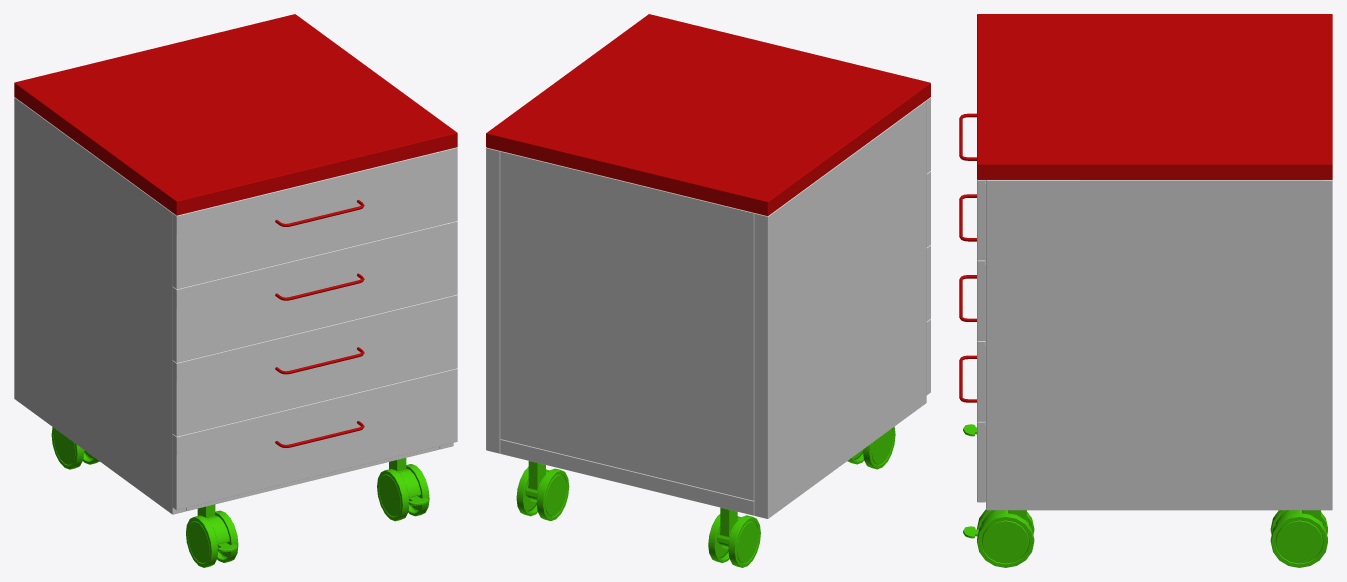
Rendered from UnderBench01.fbx.
The picture shows the model from 3 angles, left to right: view 1: azimuth 30°, elevation 25°; view 2: azimuth 150°, elevation 25°; view 3: azimuth 270°, elevation 25°; orthographic projection. The views are drawn at different scales.
Visible parts, largest first — view 1: UnderBench01, Drawer01, Drawer02, Drawer04, Drawer03; view 2: UnderBench01; view 3: UnderBench01, Drawer01, Drawer04, Drawer02, Drawer03.
Part boxes in pixels (x1,y1,x2,y2): UnderBench01: (14, 14, 457, 567); Drawer01: (172, 147, 457, 289); Drawer02: (172, 221, 457, 362); Drawer04: (172, 368, 457, 510); Drawer03: (172, 294, 457, 436); UnderBench01: (486, 14, 930, 567); UnderBench01: (963, 14, 1332, 567); Drawer01: (959, 113, 985, 260); Drawer04: (959, 355, 985, 502); Drawer02: (959, 194, 985, 340); Drawer03: (959, 275, 985, 421).
Size of the model in its own units: 50 by 52.5 by 65.
